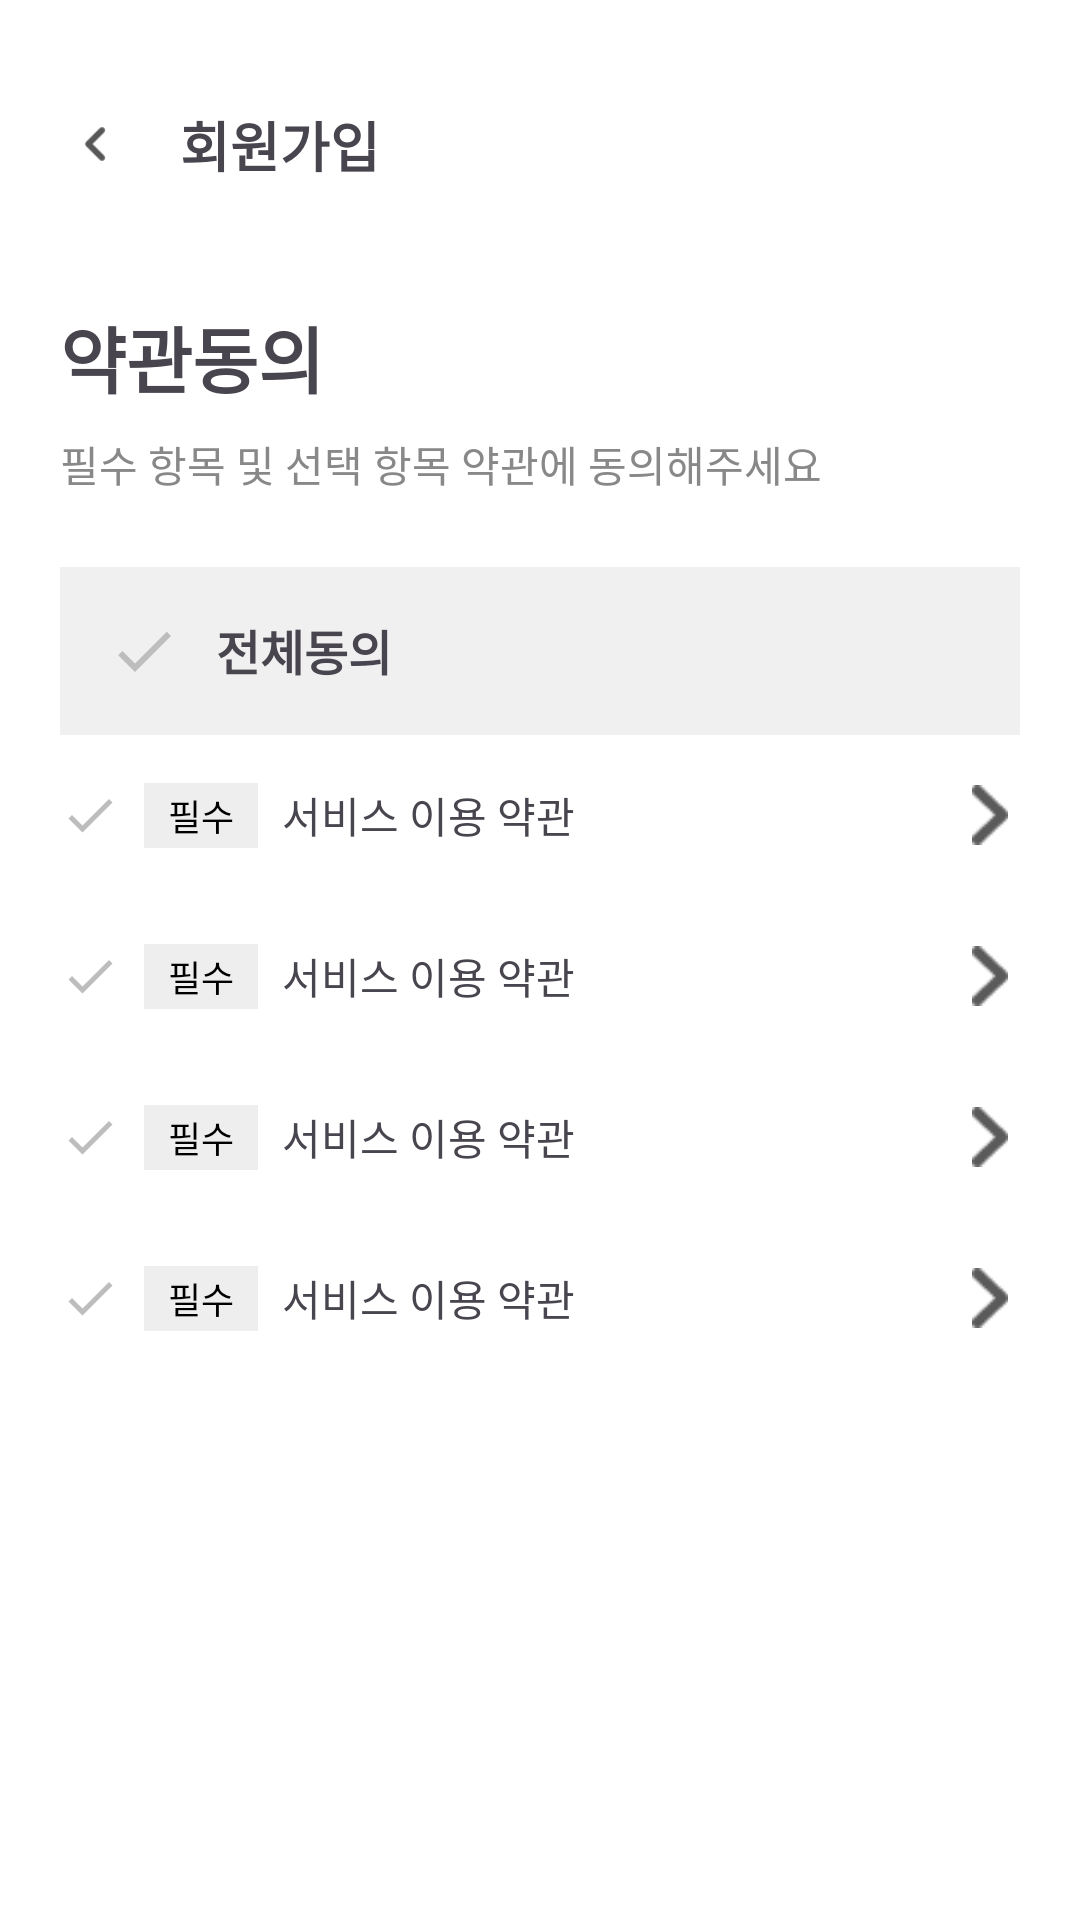

Screen size 1080x1920. Icon name, then its center in pixels as point (x, y):
back: point (95, 144)
check: point (144, 652), point (90, 815), point (90, 976), point (90, 1137), point (90, 1298)
right: point (990, 815), point (990, 976), point (990, 1137), point (990, 1298)
